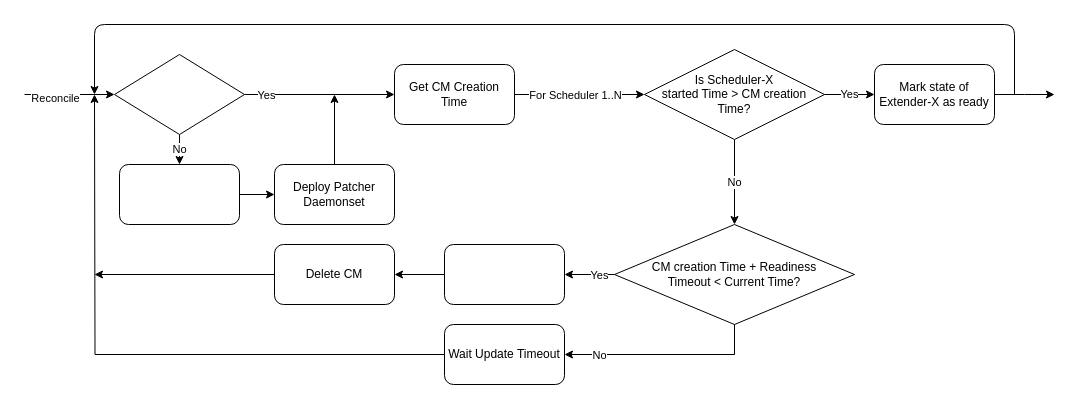
The diagram is 1080 pixels wide and 402 high, and some of its shapes have lost their labels. Here are the shapes that lost their labels. From the top down, the box of each, then its label:
(114, 54, 244, 134): Is CM deployed?
(118, 164, 240, 224): Deploy CM
(444, 244, 564, 304): Delete Patcher Daemonset
